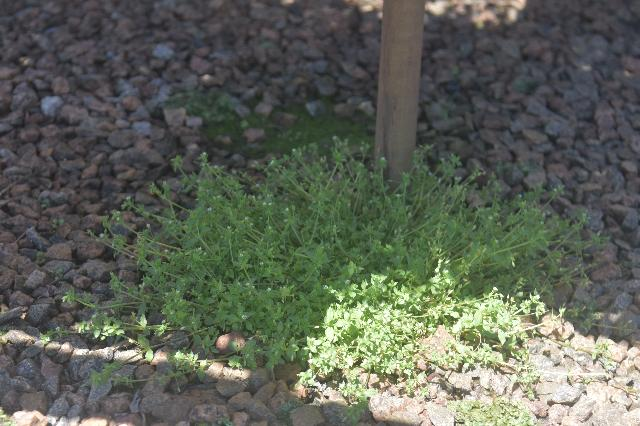MalezaMontesDelPlata: (71, 143, 610, 389)
